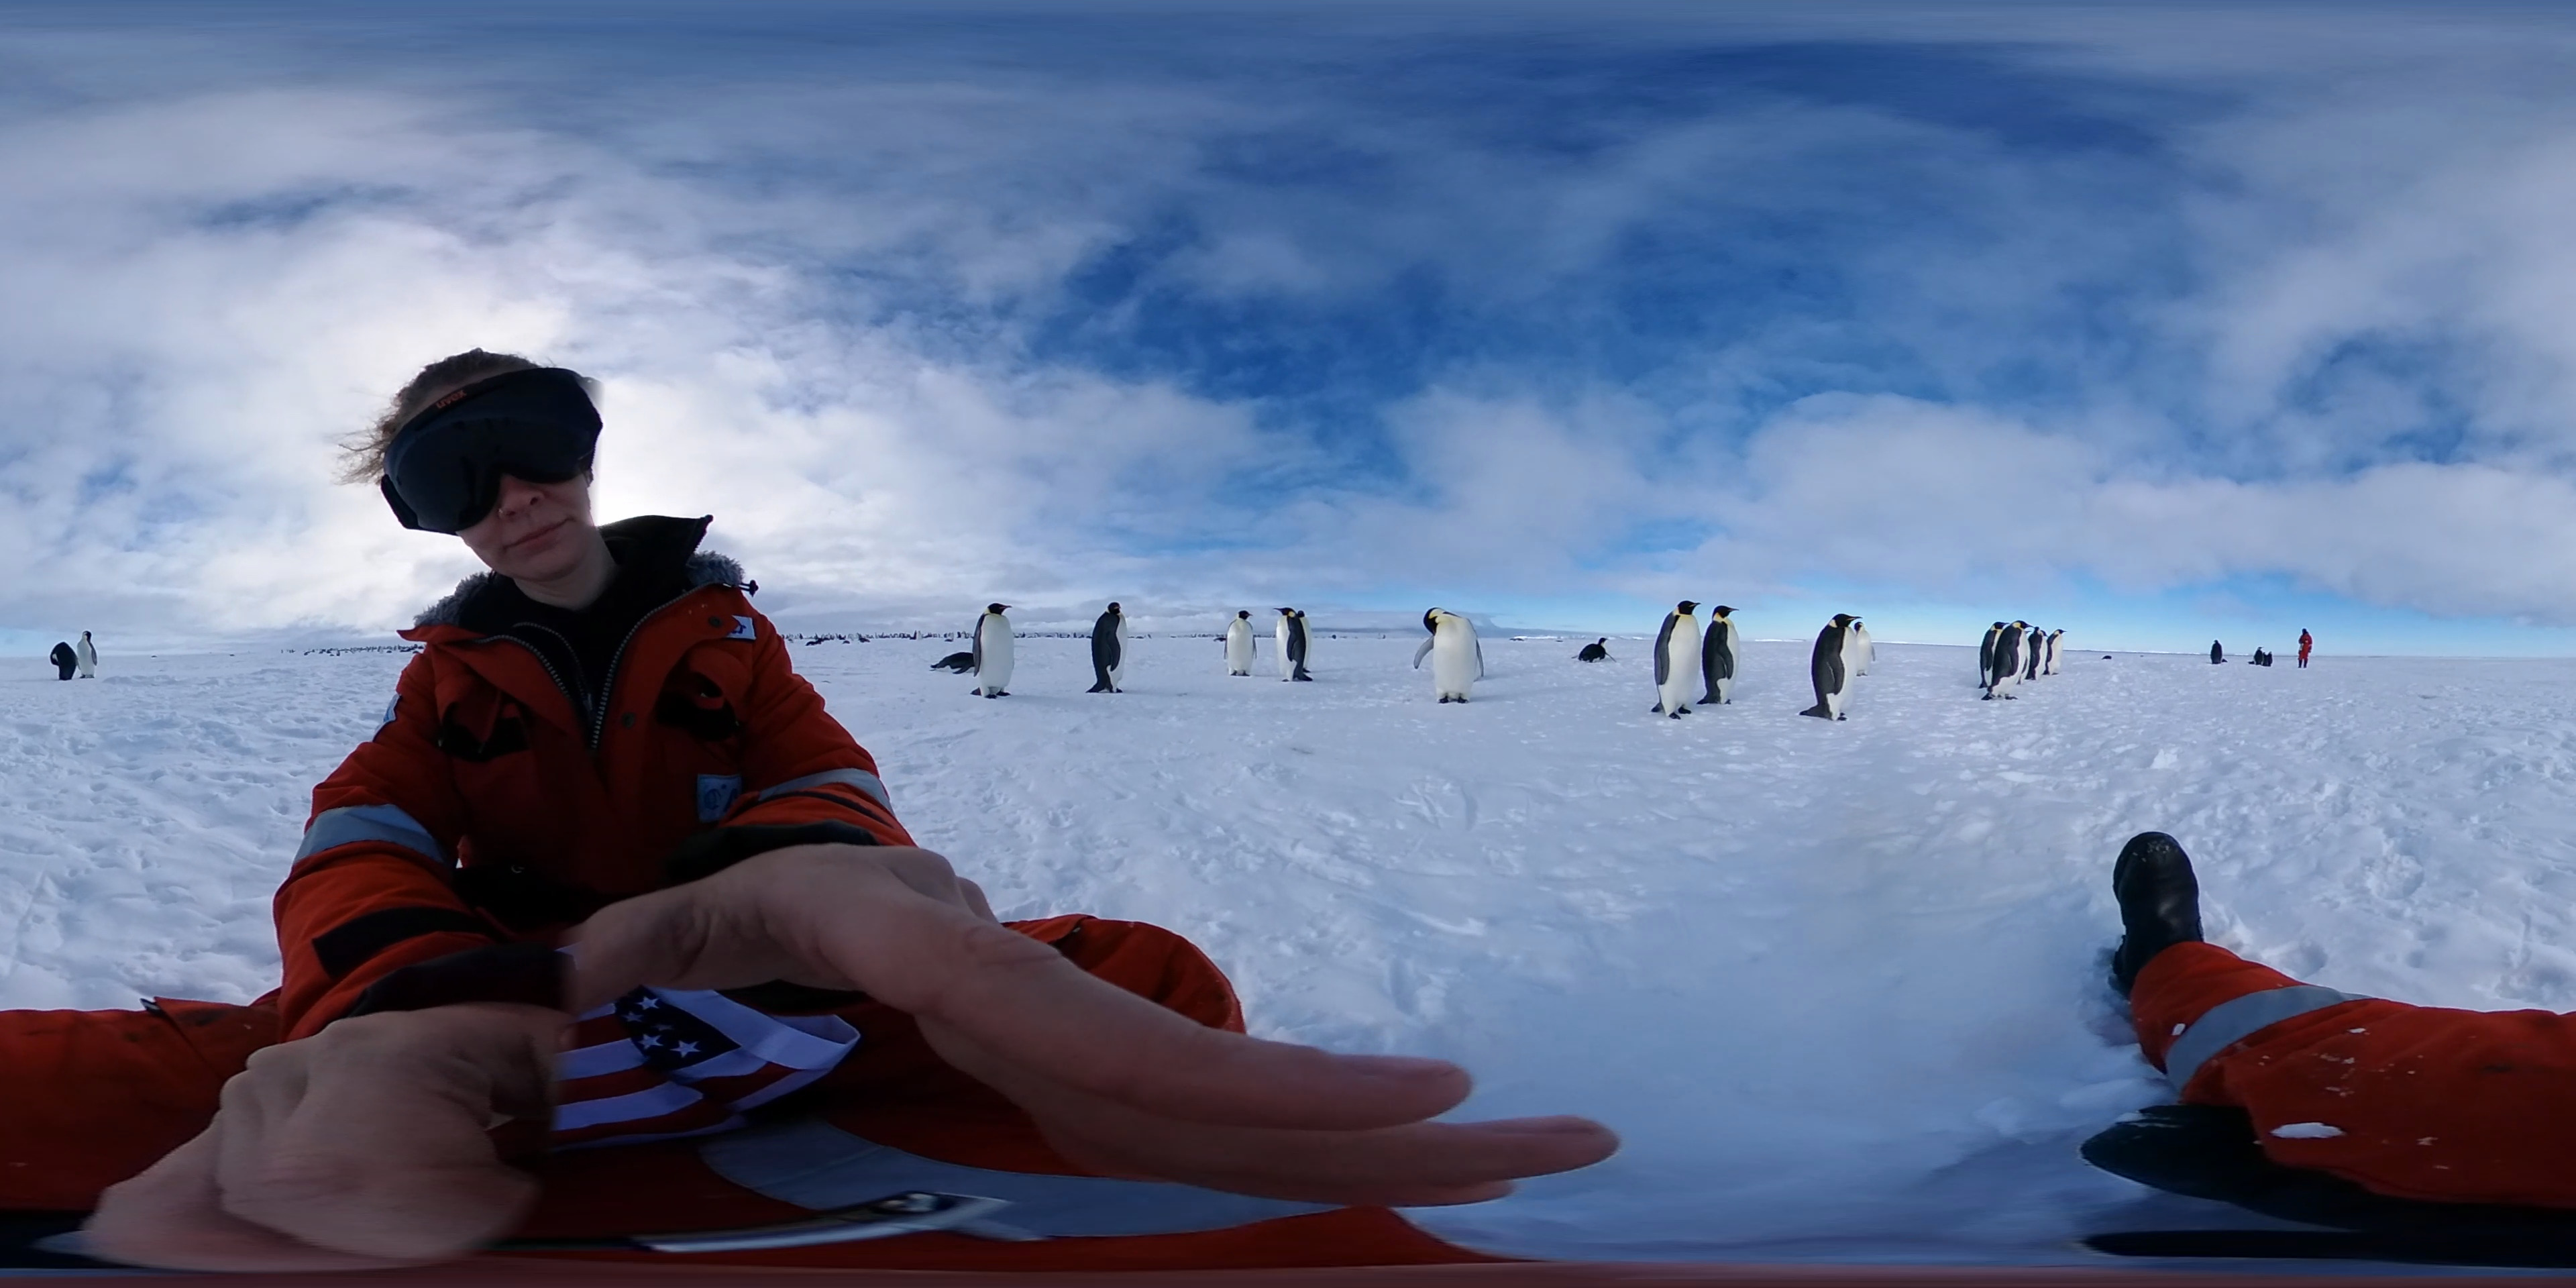adult_standing_penguin: (1410, 603, 1487, 703), (1796, 611, 1863, 723), (1649, 600, 1709, 724), (1975, 619, 2034, 705), (973, 603, 1017, 701), (1086, 601, 1130, 698), (1702, 603, 1741, 706), (1273, 603, 1314, 683), (1222, 609, 1260, 678), (1976, 619, 2006, 690), (1845, 619, 1876, 680), (1293, 609, 1316, 675), (76, 628, 100, 683), (49, 641, 80, 683), (2027, 626, 2049, 687), (2045, 626, 2068, 678), (2208, 637, 2224, 665), (2252, 644, 2264, 669)
adult_toboggan_penguin: (1571, 637, 1623, 667), (928, 651, 984, 677)
researcher: (276, 335, 931, 1053), (2295, 624, 2315, 670)
